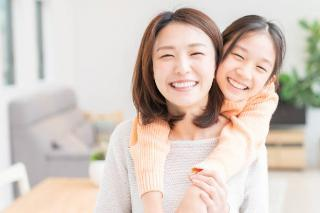person - v3 P: (91, 19, 238, 206), (216, 22, 282, 118)
